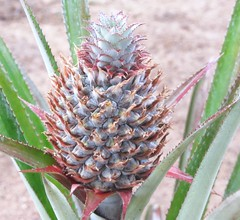Pineapple: (47, 9, 169, 191)
